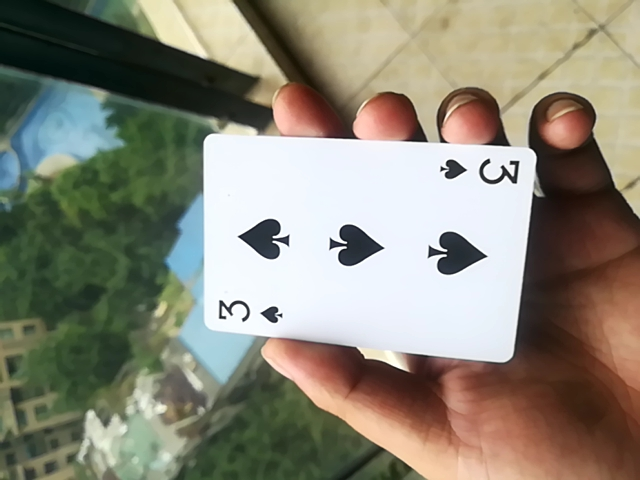ht 3: (186, 128, 543, 366)
